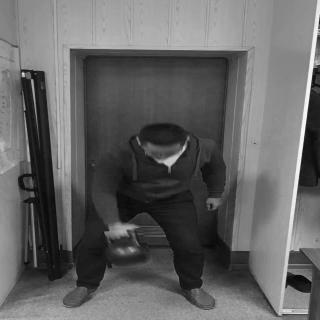kettlebell: (100, 230, 152, 269)
